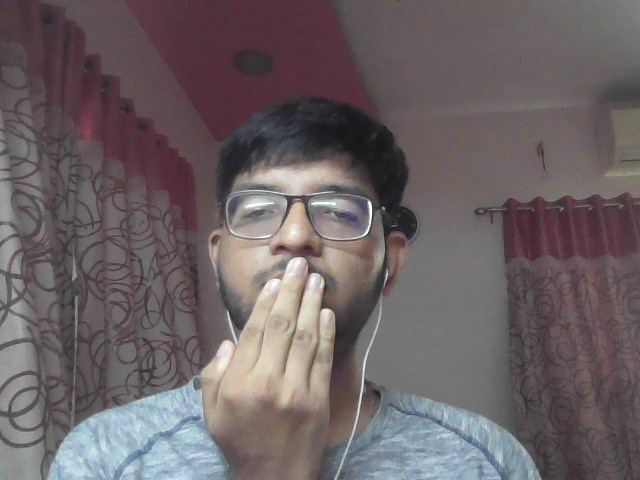આભાર: (193, 247, 368, 480)
